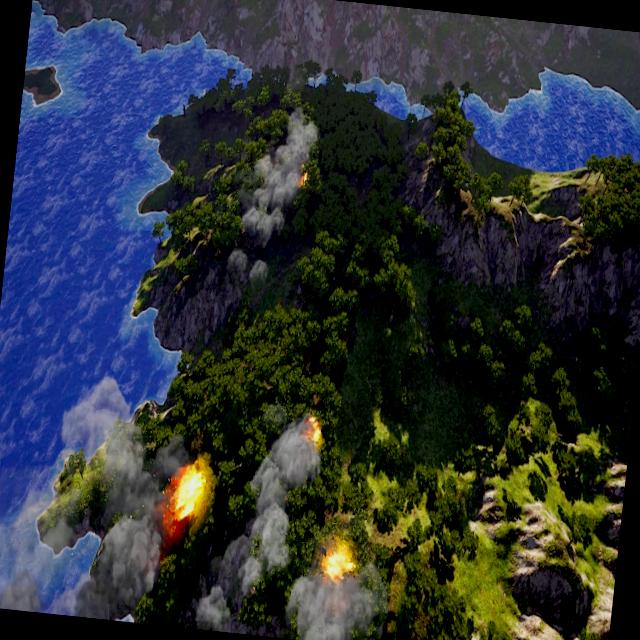fire: (171, 464, 207, 524), (321, 546, 354, 582), (302, 416, 323, 444), (298, 170, 308, 188)
smoke: (0, 362, 195, 619), (195, 410, 327, 640), (232, 100, 318, 247), (281, 570, 388, 640), (225, 252, 269, 286)
